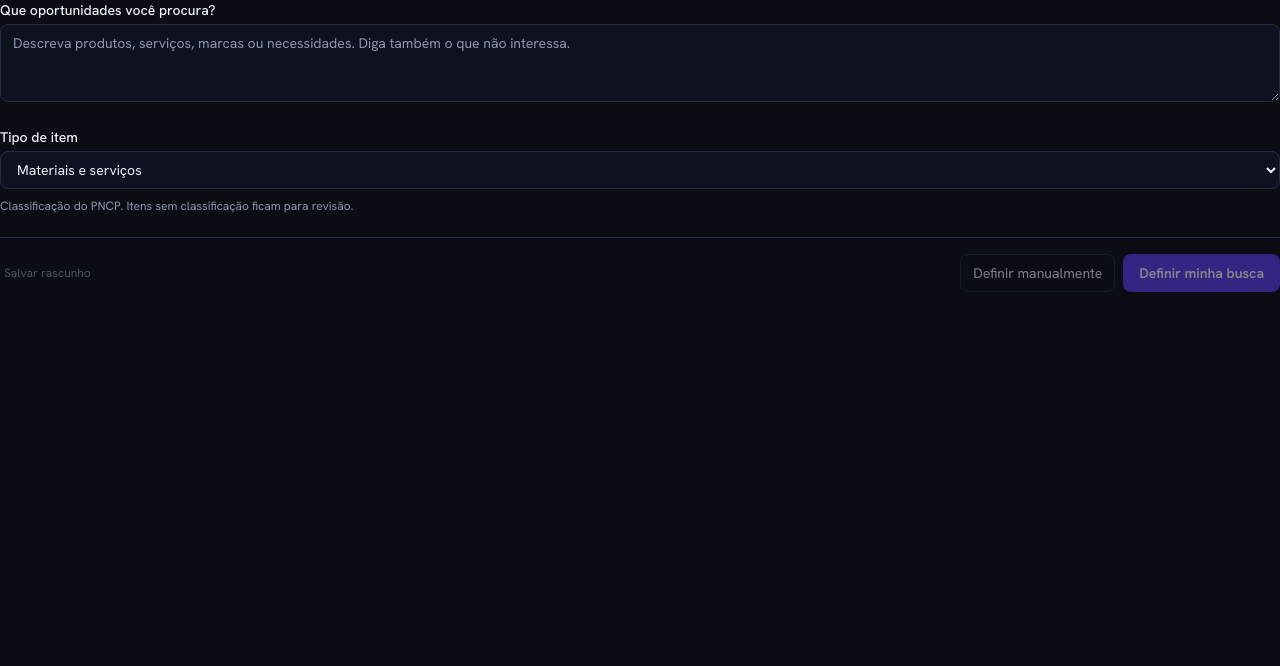
manual fallback works without AI and draft saving never activates a search
The width and height of the screenshot is (1280, 666).
Replace the text in the text box labelled "Que oportunidades você procura?" with "Cadeiras odontológicas" at (640, 63), box top-left (0, 24), bottom-right (1279, 102)
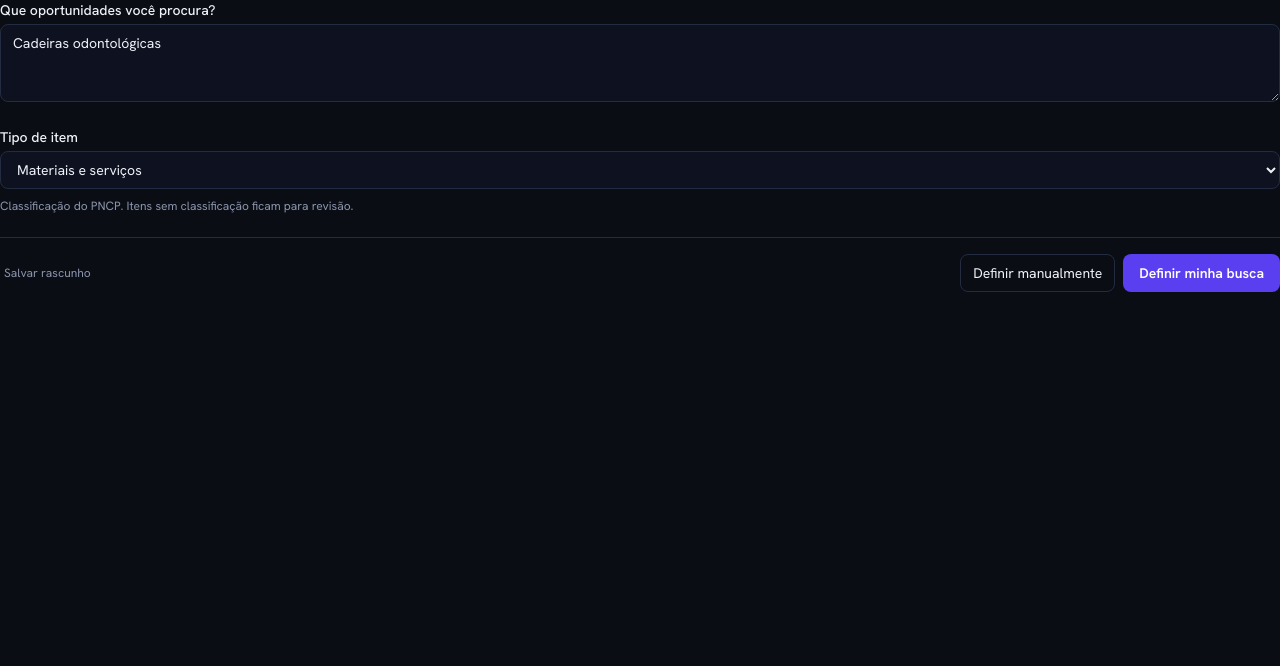
Click the button "Definir manualmente".
click(1038, 272)  # box top-left (960, 254), bottom-right (1115, 292)
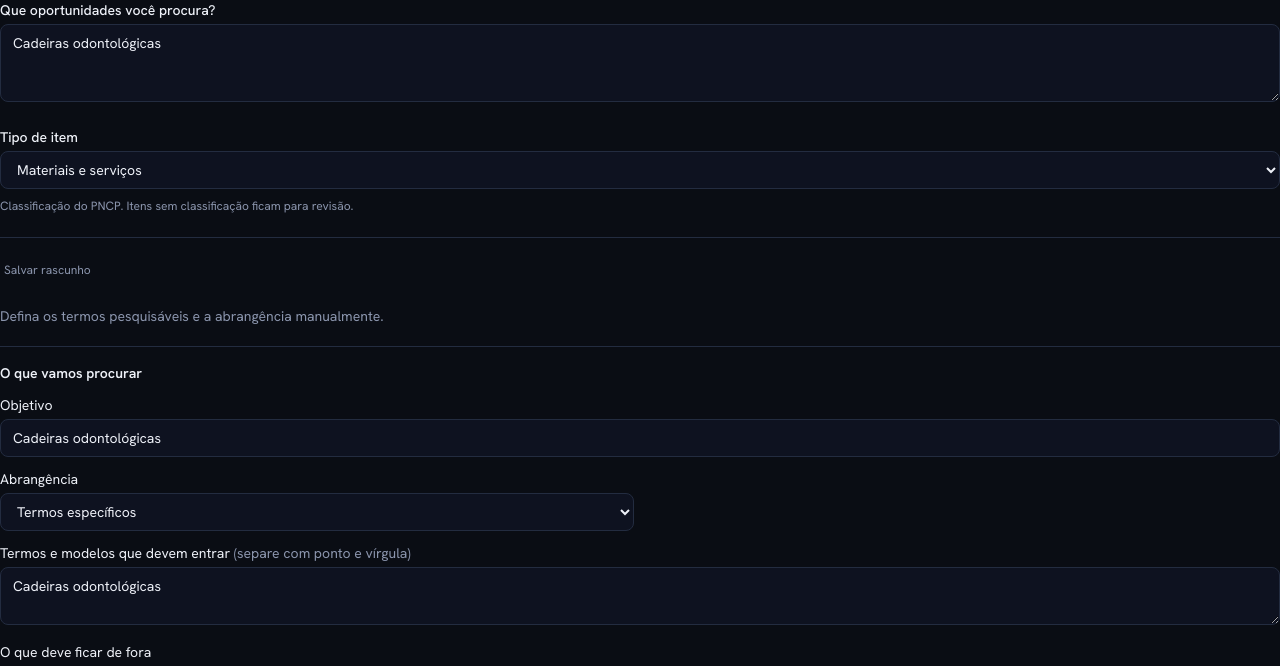
Now the field labelled "Objetivo" holds "Cadeiras odontológicas", box top-left (0, 418), bottom-right (1279, 456)
Click the button "Salvar rascunho".
click(47, 270)  # box top-left (0, 254), bottom-right (95, 286)
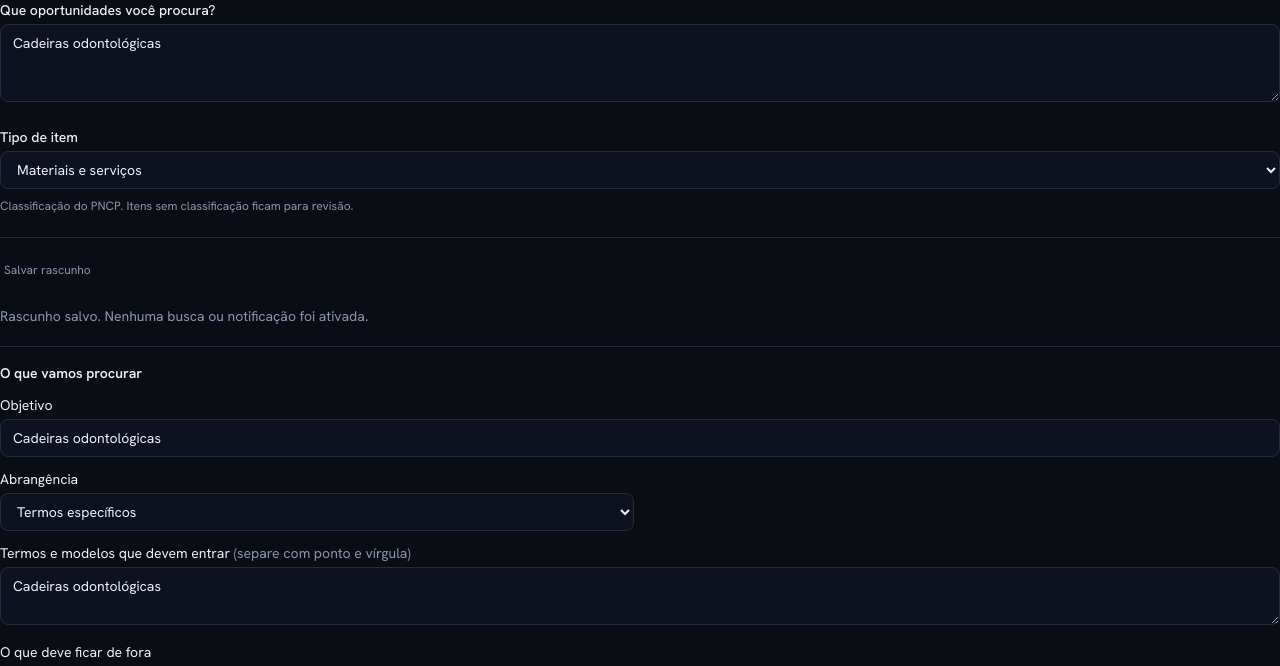
Now the text "Rascunho salvo. Nenhuma busca ou notificação foi ativada." is shown, box top-left (0, 306), bottom-right (368, 324)
